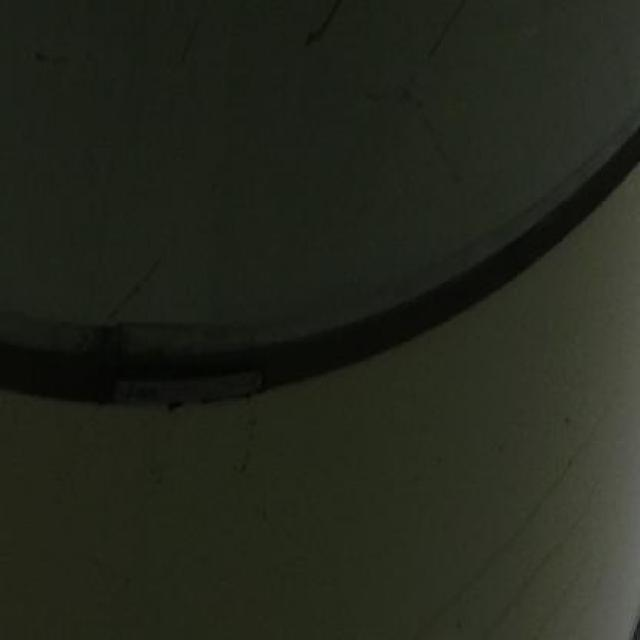Coating_defects: (242, 413, 256, 482), (34, 50, 71, 65), (366, 86, 385, 99), (402, 81, 413, 102)
Crack: (104, 256, 162, 324), (417, 94, 458, 180), (428, 0, 462, 58), (303, 0, 340, 51), (179, 12, 199, 65)
